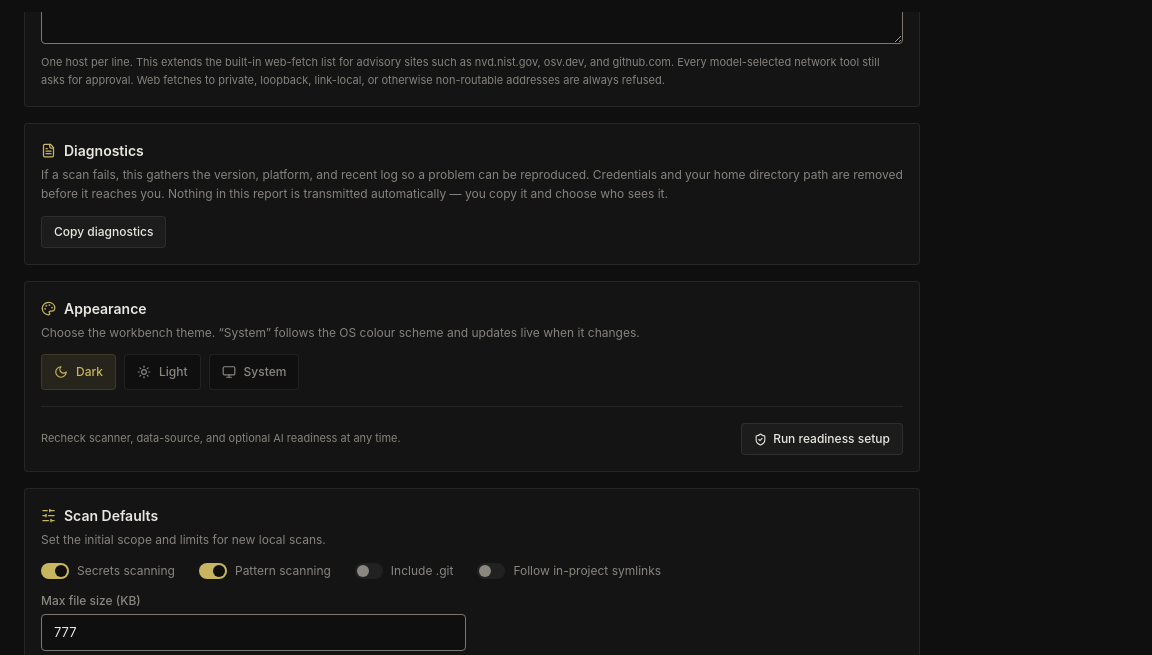
Scenario: a delayed theme save does not overwrite a newer reset draft
(page scrolled)
Click the radio button labelled "light".
click(162, 372)  # box [124,354,200,390]
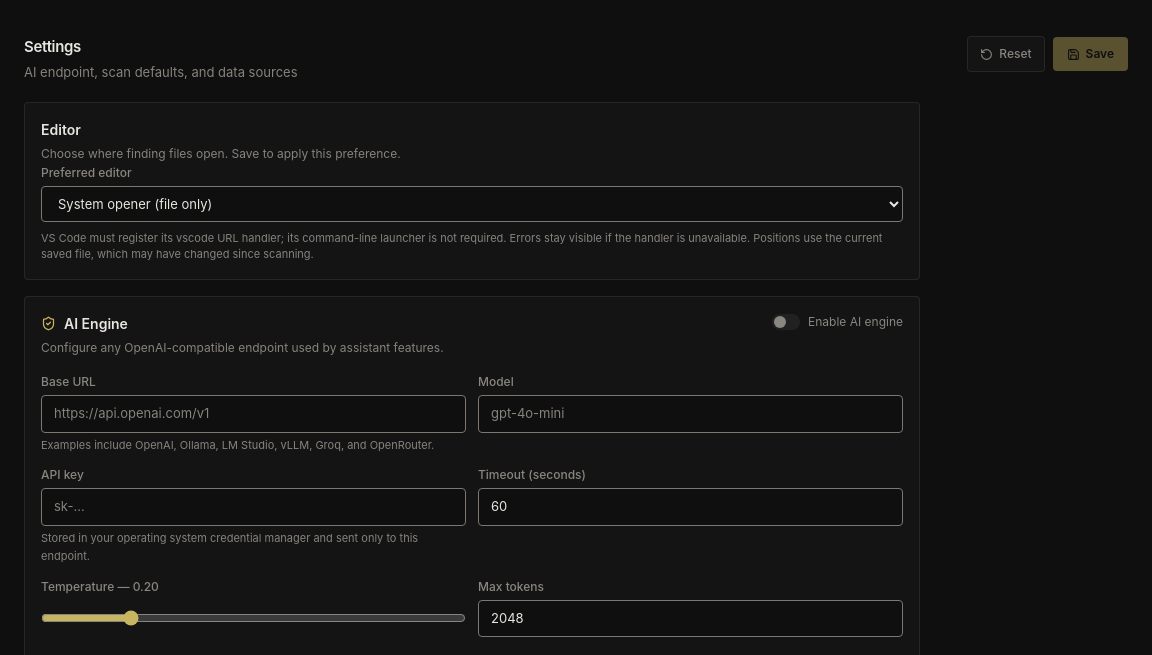
Click the button "Reset".
click(1006, 54)  # box [967,36,1045,72]
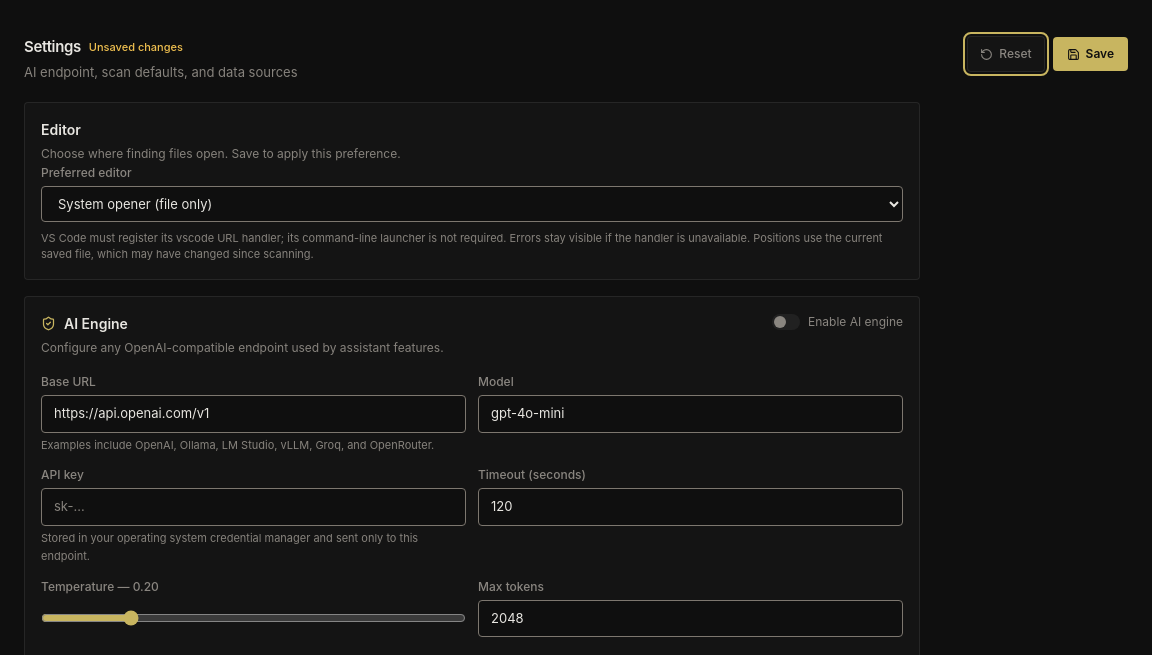
Expected: the button "Save" is enabled, [1053,37,1128,71]
